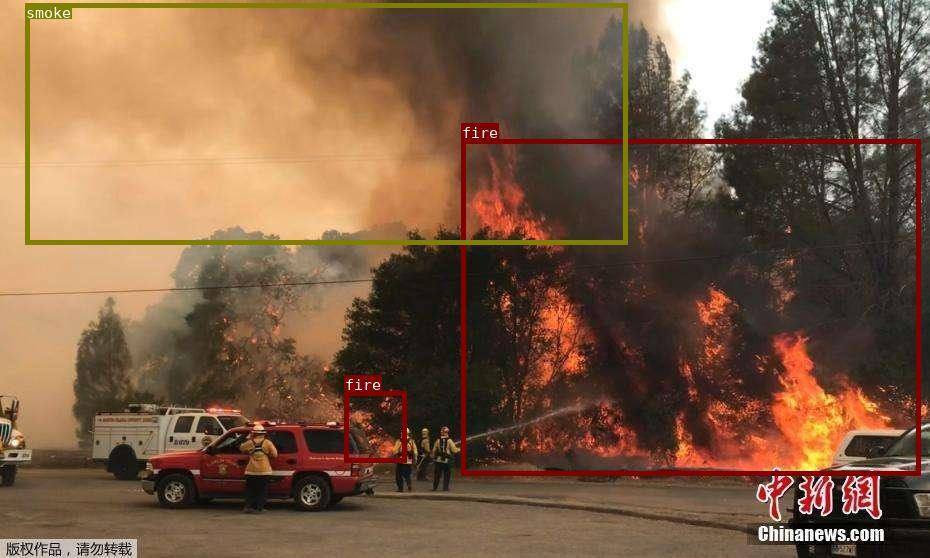fire: (461, 139, 920, 475), (343, 390, 406, 462)
smoke: (25, 2, 627, 244)
